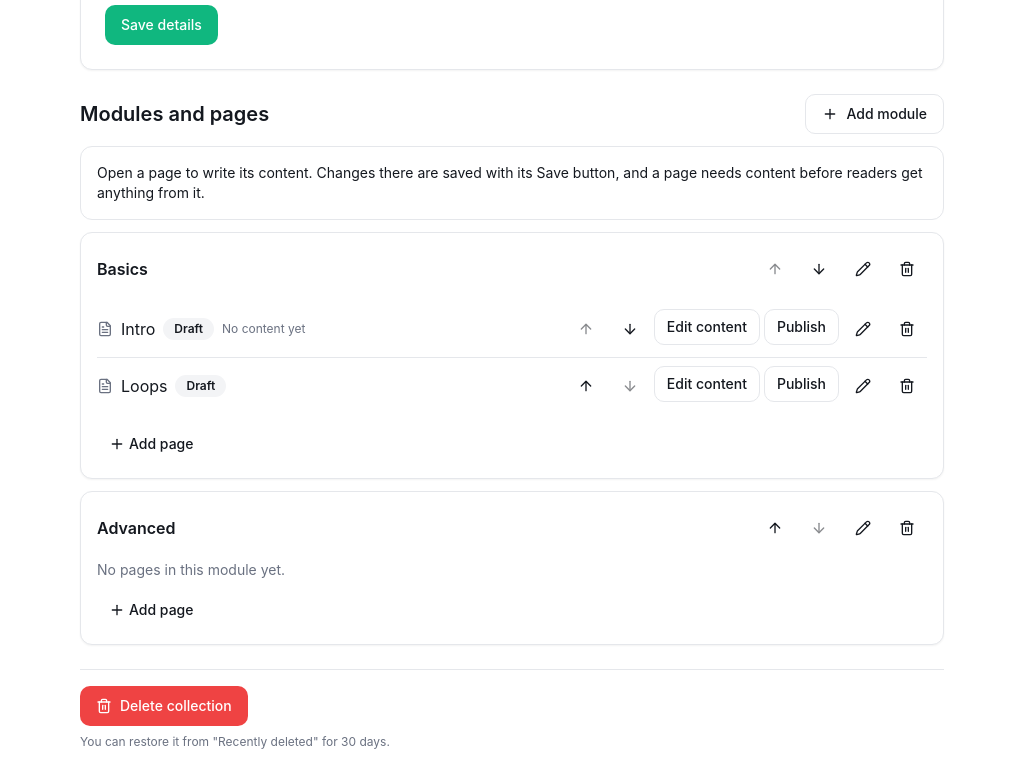
it: pages › a page with content publishes straight away, with no warning; an empty page is marked
(page scrolled)
Expected: the text with test id "empty-9" reads "No content yet", [222, 321, 305, 336]
What coordinates should you click on to do the following:
click the button "Publish" in the row of "Loops"
I would click on:
 (801, 384)
Its box is [764, 366, 839, 402].
(page scrolled)
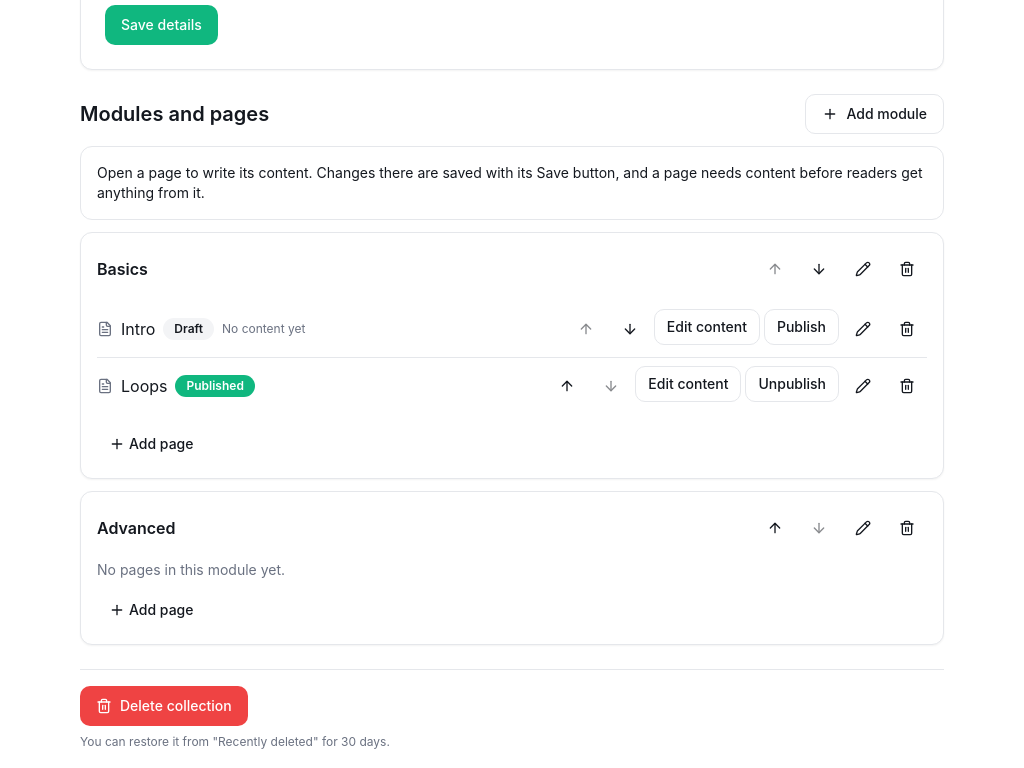
Now the text with test id "status-badge" reads "Published", box [186, 378, 244, 393]
